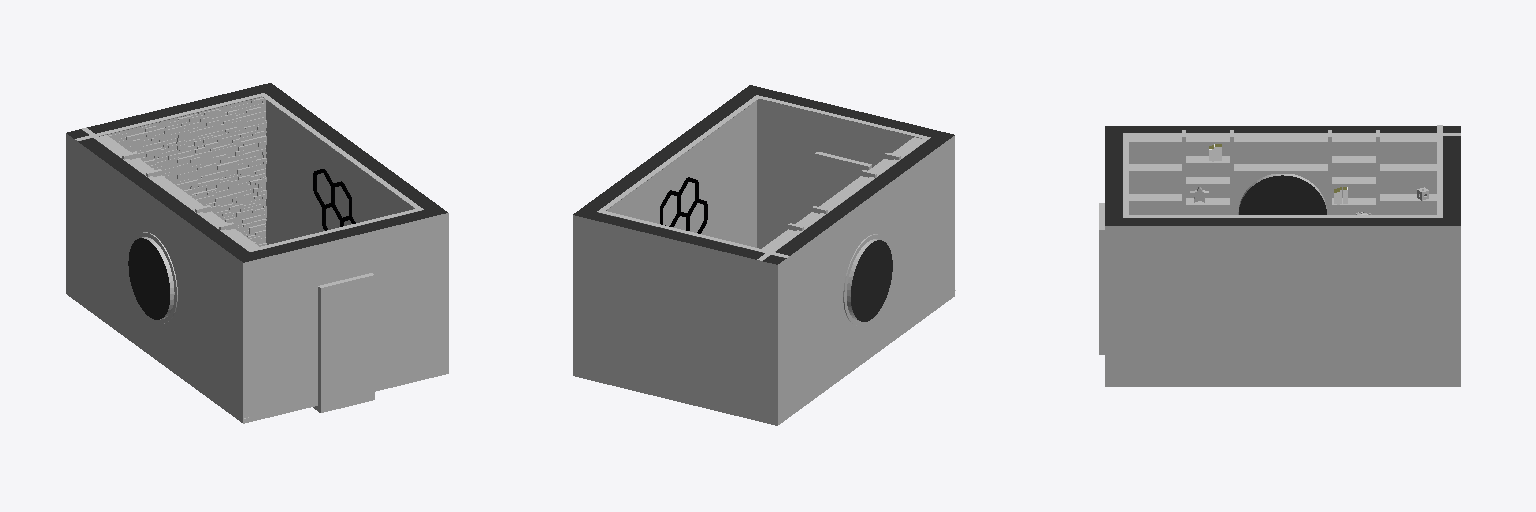
The model's file is SOL_Study.obj.
The picture shows the model from 3 angles: view 1: azimuth 30°, elevation 25°; view 2: azimuth 150°, elevation 25°; view 3: azimuth 270°, elevation 25°; orthographic projection.
Visible parts, largest first — view 1: Wall.001_Wall, AutoBoolean.001, Molding, hole.001, HoneyComb; view 2: Wall.001_Wall, Molding, hole.001, AutoBoolean.001, HoneyComb; view 3: Wall.001_Wall, hole.001, Molding, Shelves4.001, Shelves3.001, Shelves2.001, Shelves_Group.001_Shelves5.001, Shelves1.002_Shelves1.001, AutoBoolean.001.
Part boxes in pixels (left/top/right/bottom): Wall.001_Wall: left=66, top=83, right=448, bottom=423; AutoBoolean.001: left=313, top=273, right=374, bottom=412; Molding: left=75, top=93, right=423, bottom=251; hole.001: left=128, top=237, right=174, bottom=319; HoneyComb: left=313, top=169, right=355, bottom=230; Wall.001_Wall: left=573, top=85, right=954, bottom=425; Molding: left=597, top=95, right=930, bottom=261; hole.001: left=847, top=239, right=892, bottom=321; AutoBoolean.001: left=815, top=152, right=871, bottom=206; HoneyComb: left=660, top=177, right=707, bottom=233; Wall.001_Wall: left=1105, top=126, right=1460, bottom=386; hole.001: left=1238, top=174, right=1326, bottom=214; Molding: left=1123, top=125, right=1460, bottom=217; Shelves4.001: left=1328, top=130, right=1379, bottom=214; Shelves3.001: left=1230, top=130, right=1331, bottom=214; Shelves2.001: left=1182, top=130, right=1229, bottom=214; Shelves_Group.001_Shelves5.001: left=1380, top=136, right=1436, bottom=203; Shelves1.002_Shelves1.001: left=1129, top=136, right=1181, bottom=203; AutoBoolean.001: left=1099, top=203, right=1104, bottom=354.
Bounding box in the file's own units: 4.1 × 3.16 × 6.1.